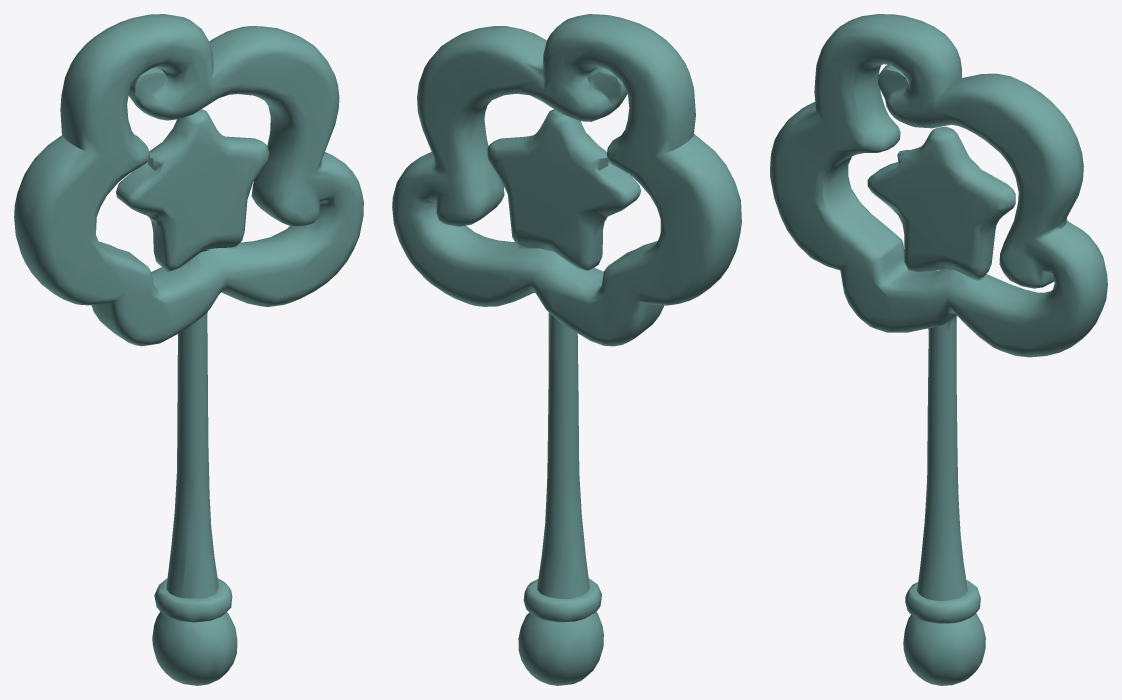
File: indie_style_magic_wand.glb
The picture shows the model from 3 angles, left to right: view 1: azimuth 30°, elevation 25°; view 2: azimuth 150°, elevation 25°; view 3: azimuth 330°, elevation 25°; orthographic projection. The views are drawn at different scales.
Parts seen in each view (by area): view 1: world_0; view 2: world_0; view 3: world_0.
Boxes of the visible parts, x1=… form: world_0: x1=14, y1=14, x2=363, y2=685; world_0: x1=392, y1=14, x2=741, y2=685; world_0: x1=770, y1=14, x2=1107, y2=685.
Size of the model in its own units: 0.5245 by 1 by 0.1213.
1 material, 1 textured.
